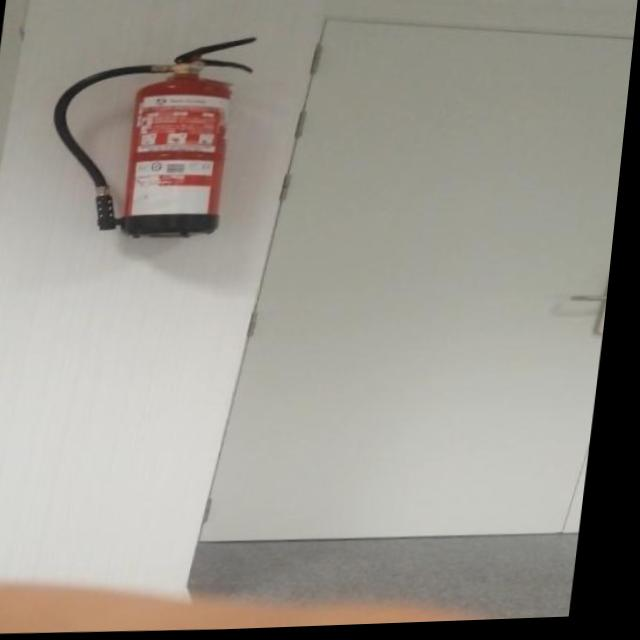door_handle: (562, 296, 614, 311)
